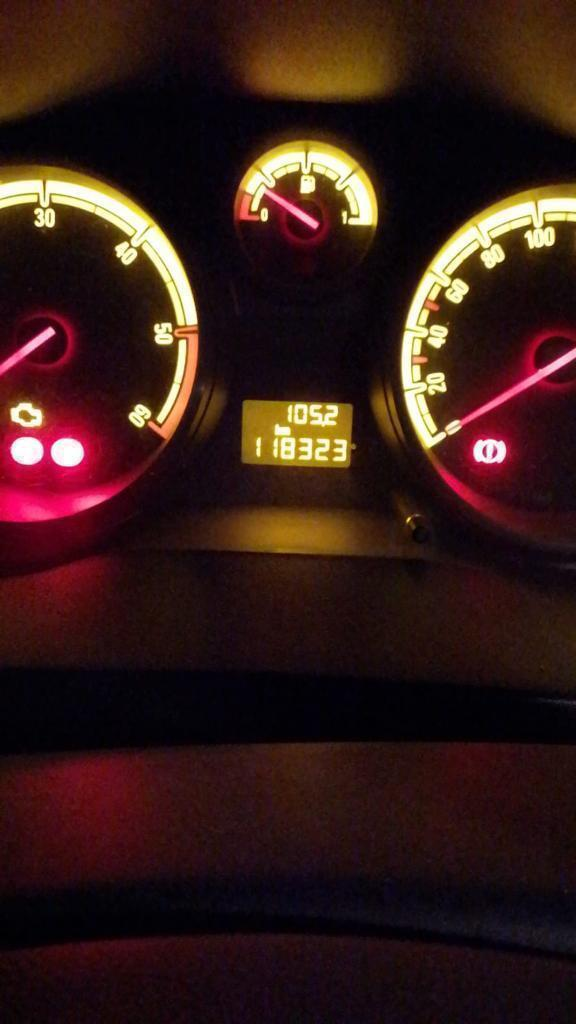,: (321, 421, 325, 427)
0: (293, 403, 308, 424)
1: (254, 435, 263, 458), (271, 436, 279, 458), (286, 403, 292, 423)
2: (313, 437, 330, 461), (324, 404, 339, 425)
3: (331, 437, 347, 462), (297, 437, 312, 461)
5: (308, 403, 322, 425)
8: (279, 436, 296, 460)
X: (273, 423, 281, 436), (281, 426, 290, 435)
odometer: (236, 395, 358, 471)
